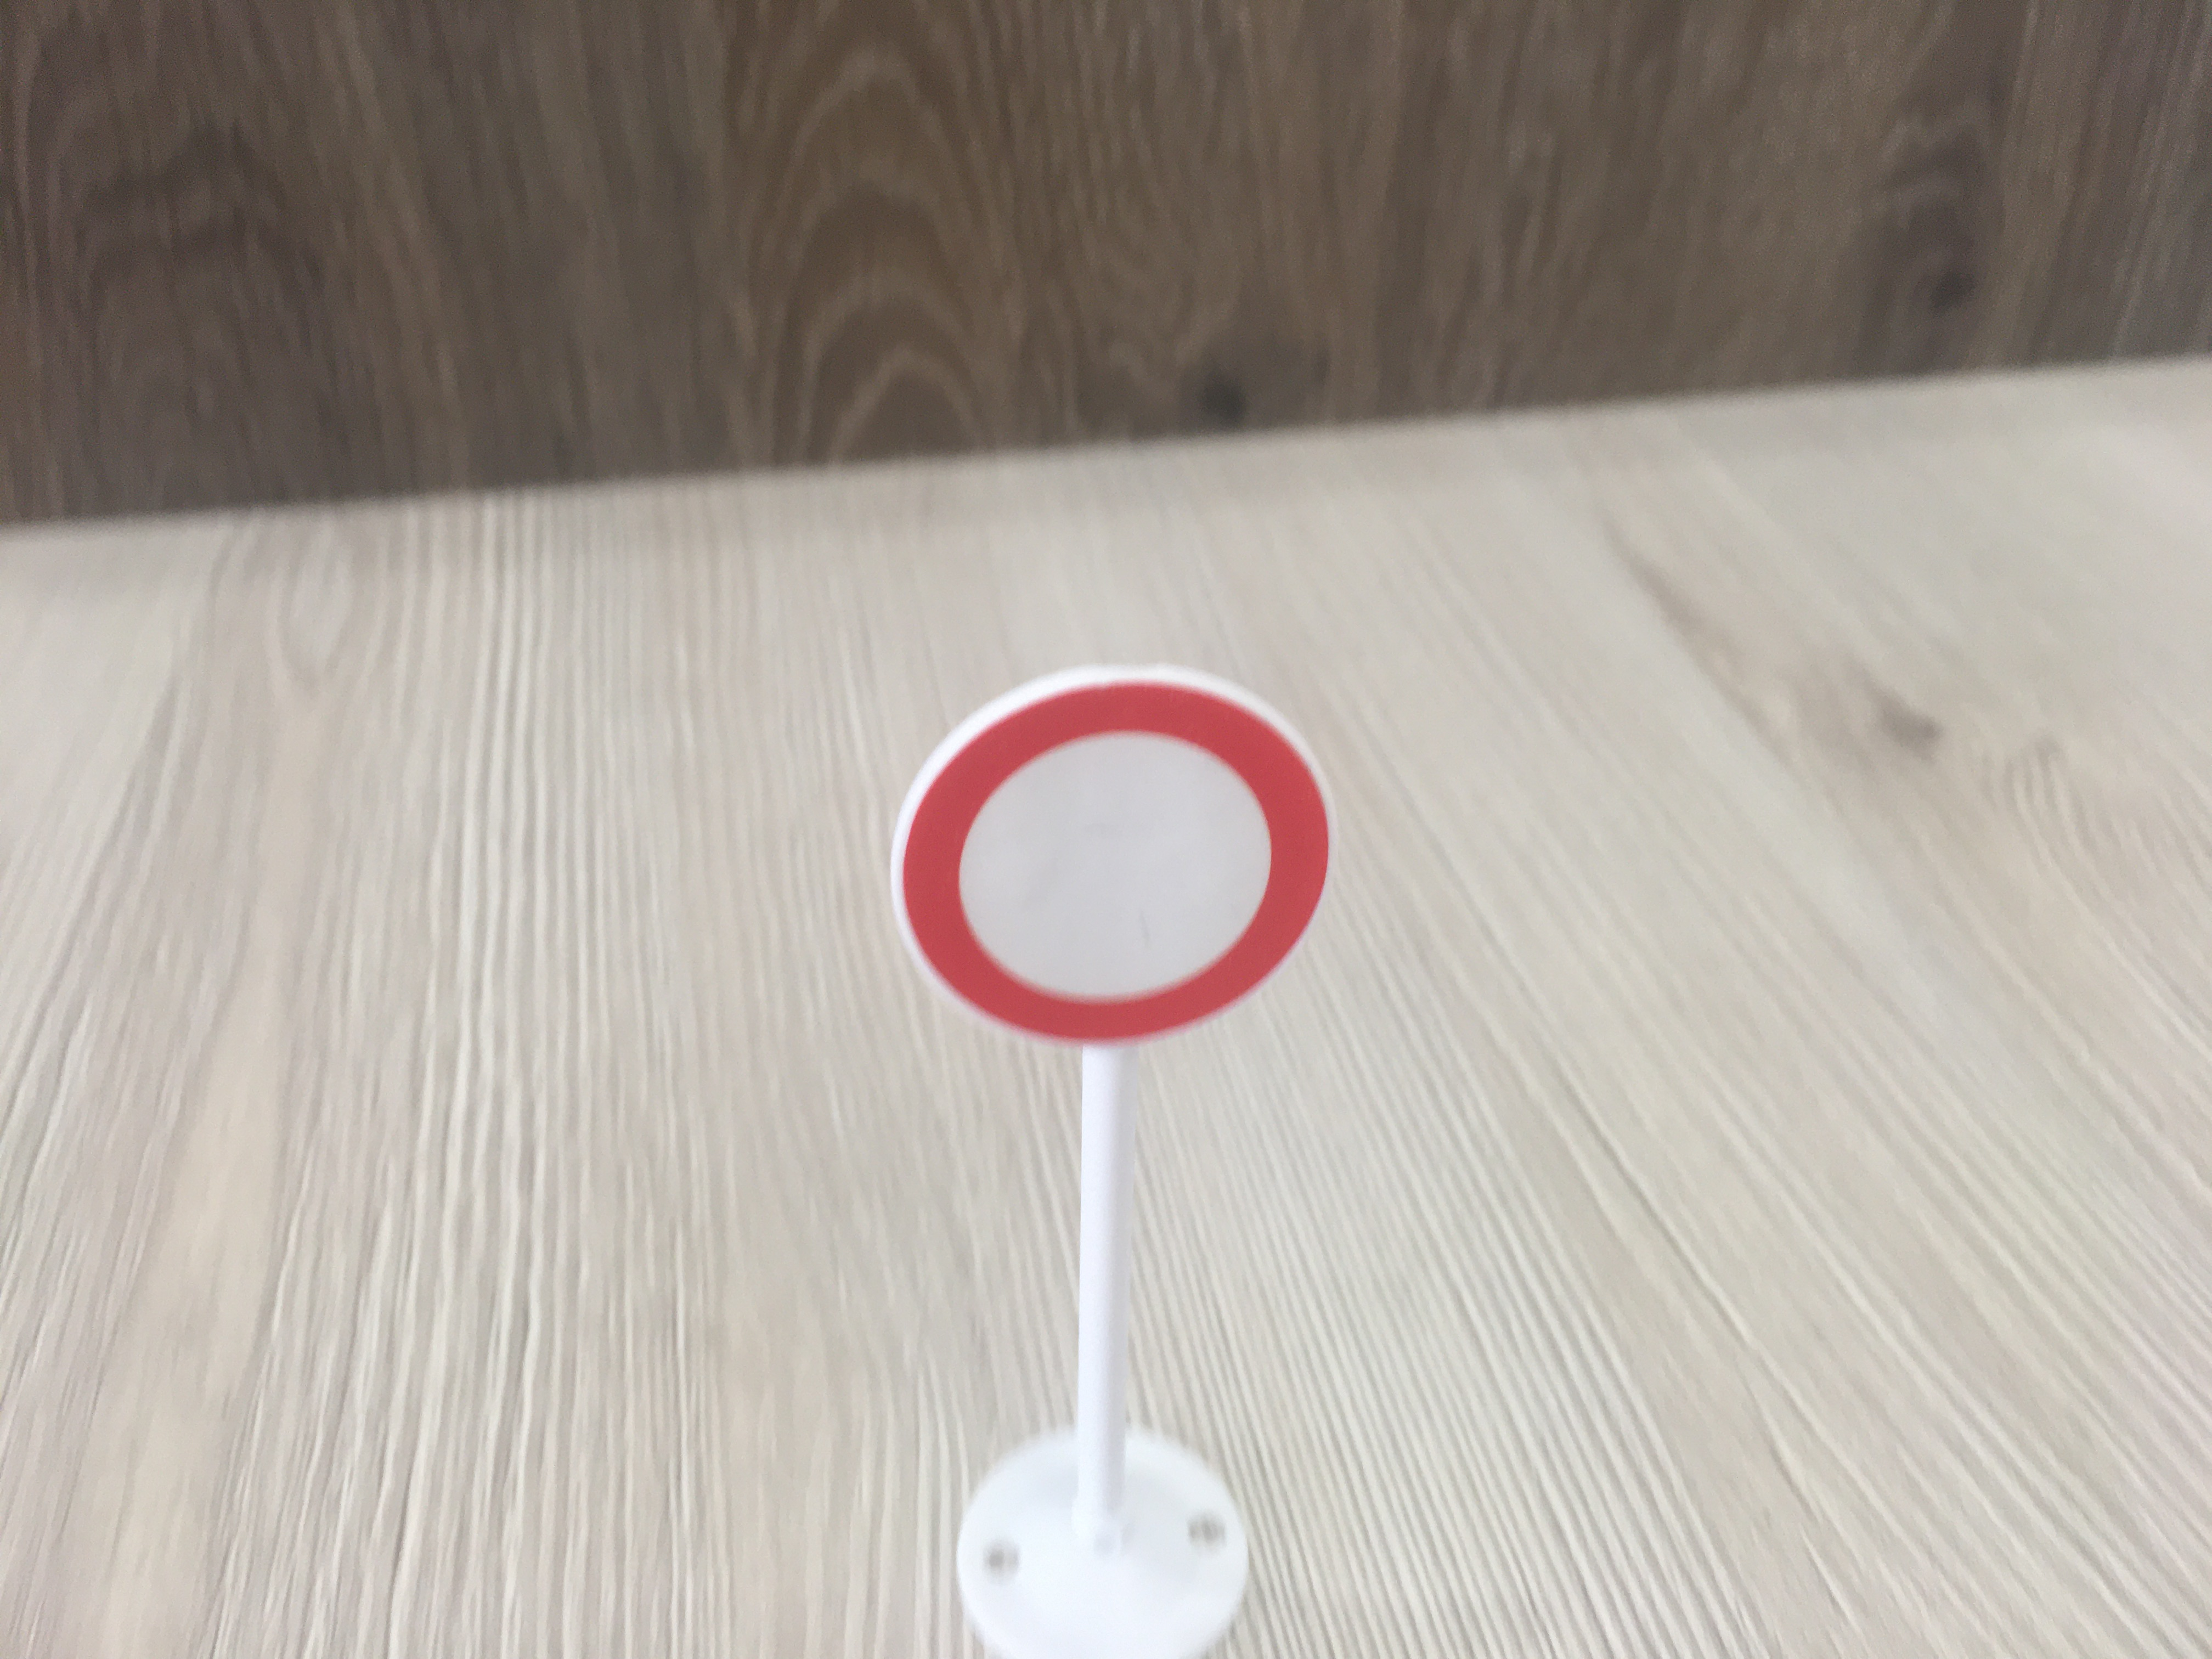noDrive: (892, 669, 1329, 1049)
